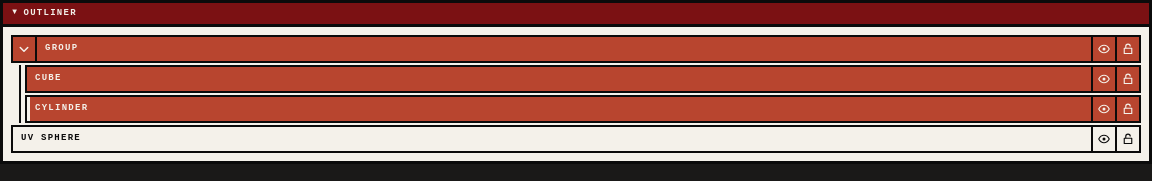
Outliner › groups › folds the rows away and brings them back
What coordinates should you click on to do the following:
click the button named "Collapse GROUP"
I would click on:
 (25, 49)
Its box is [13, 37, 37, 61].
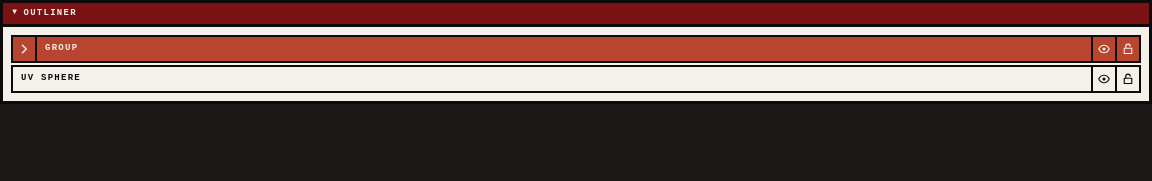
expect the button "UV SPHERE" is shown: met, box [13, 67, 1091, 91]
expect the button "CUBE" is gone: met
What coordinates should you click on to do the following:
click the button named "Expand GROUP"
I would click on:
 (25, 49)
Its box is [13, 37, 37, 61].
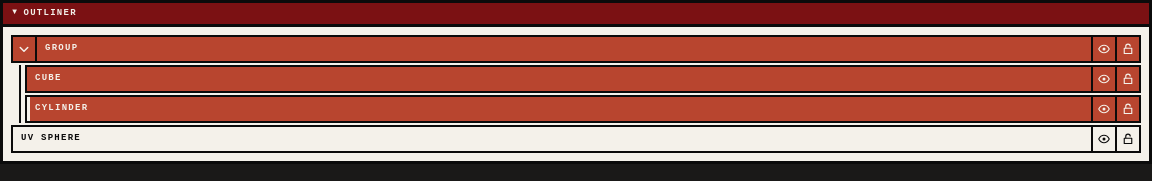
expect the button "CUBE" is shown: met, box [27, 67, 1091, 91]
